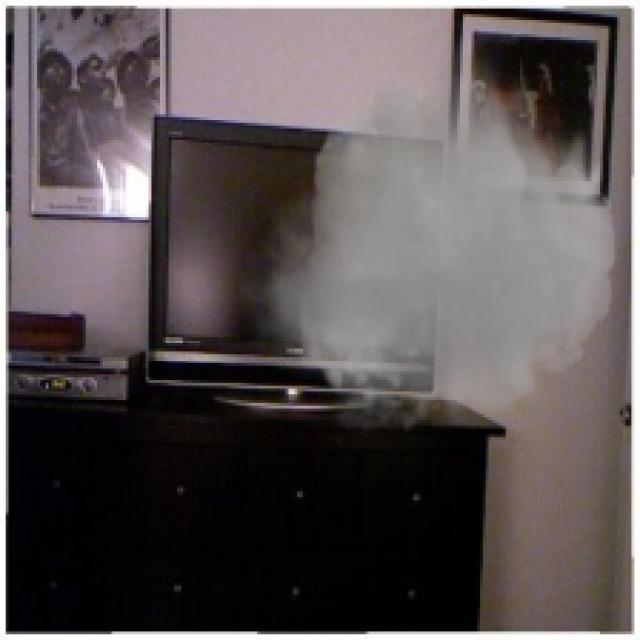Smoke: (237, 29, 626, 448)
